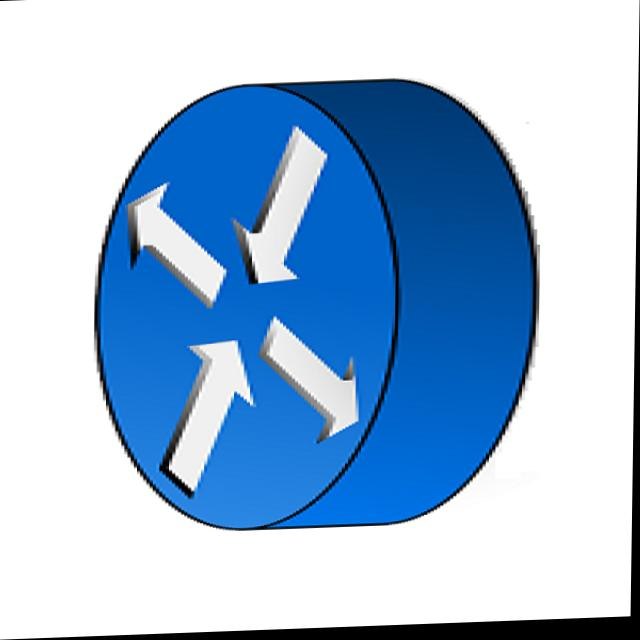Router: (58, 41, 587, 552)
